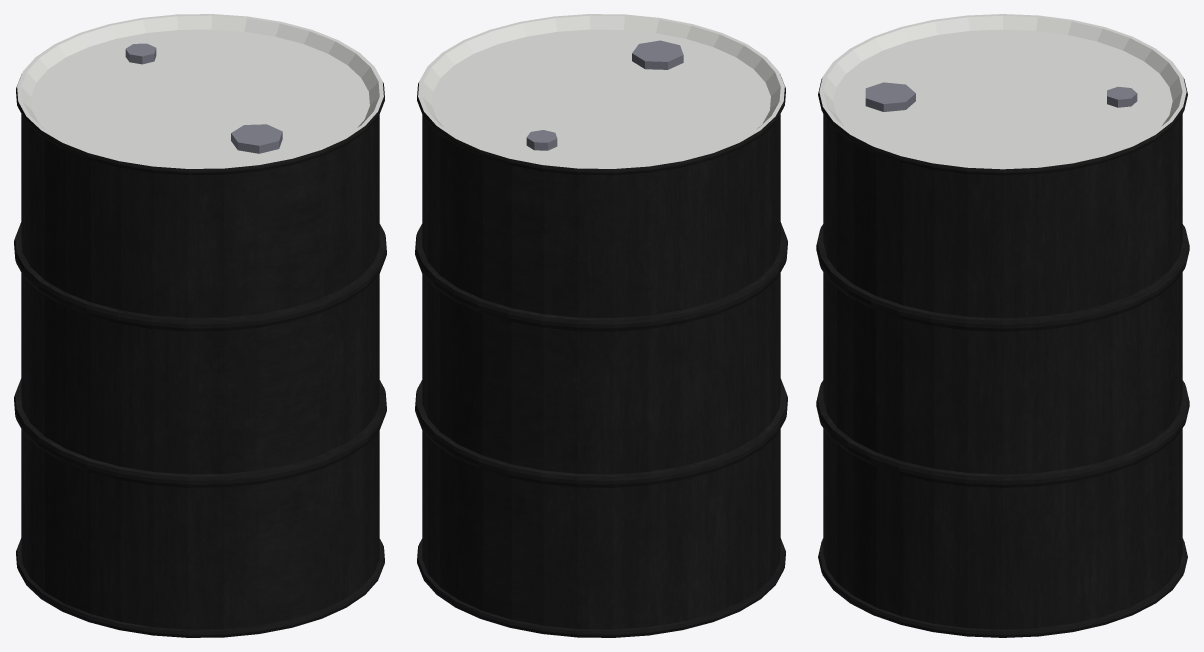
File: steel_drum_v1.glb
The picture shows the model from 3 angles, left to right: view 1: azimuth 30°, elevation 25°; view 2: azimuth 150°, elevation 25°; view 3: azimuth 270°, elevation 25°; orthographic projection.
Visible parts, largest first — view 1: BarrelV2.001; view 2: BarrelV2.001; view 3: BarrelV2.001.
Boxes of the visible parts, x1=… form: BarrelV2.001: x1=14, y1=14, x2=386, y2=637; BarrelV2.001: x1=415, y1=14, x2=787, y2=637; BarrelV2.001: x1=816, y1=14, x2=1189, y2=637.
Size of the model in its own units: 0.6138 by 0.85 by 0.6138.
Materials: 3 (2 with a texture image).
